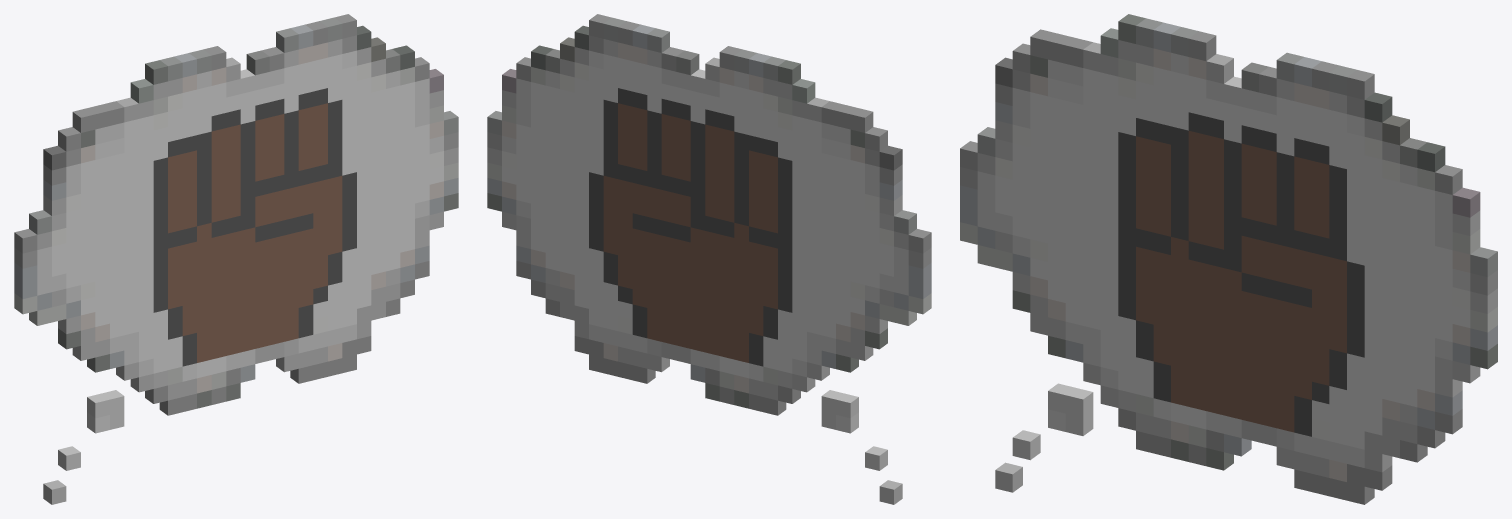
3 renders of one model, left to right at view 1: azimuth 30°, elevation 25°; view 2: azimuth 150°, elevation 25°; view 3: azimuth 330°, elevation 25°, orthographic. The views are drawn at different scales.
Bounding box in the file's own units: 1.5 × 1.35 × 0.05.
